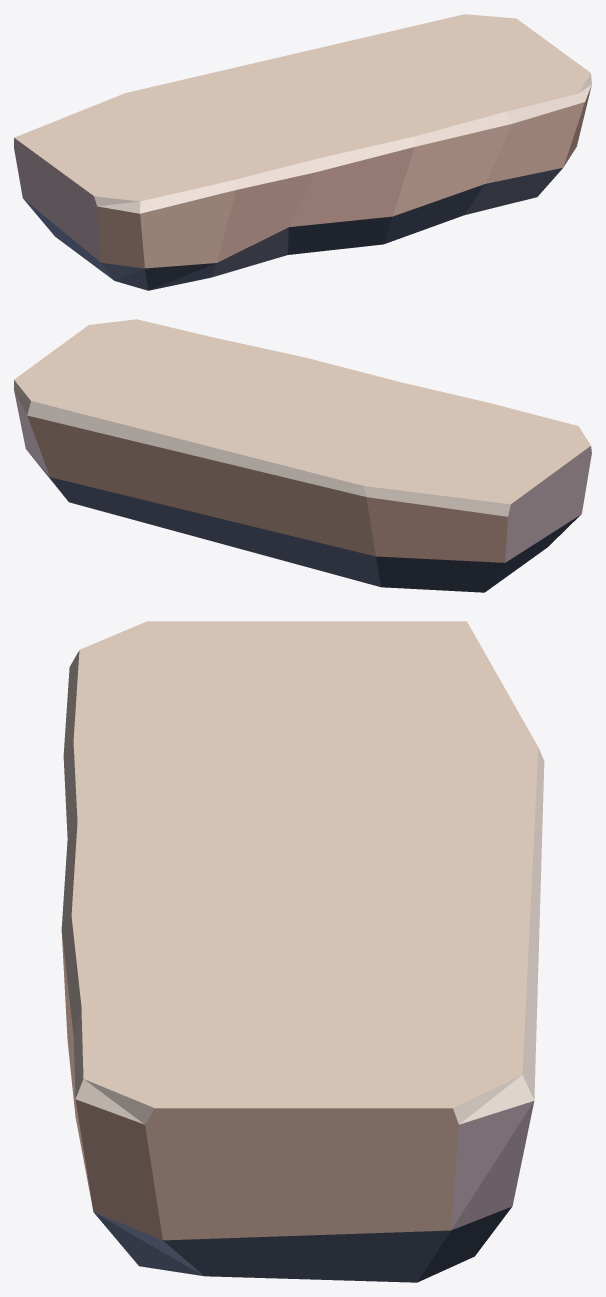
The model's file is stone-platform.glb.
3 views of the same model, one above another, from view 1: azimuth 30°, elevation 25°; view 2: azimuth 150°, elevation 25°; view 3: azimuth 270°, elevation 25° (orthographic). The views are drawn at different scales.
Visible parts, largest first — view 1: Stone Platform.001; view 2: Stone Platform.001; view 3: Stone Platform.001.
Part boxes in pixels (bbox=[...]): Stone Platform.001: bbox=[14, 14, 591, 290]; Stone Platform.001: bbox=[14, 319, 591, 592]; Stone Platform.001: bbox=[61, 621, 544, 1282].
Size of the model in its own units: 5.8 by 1.24 by 2.43.
